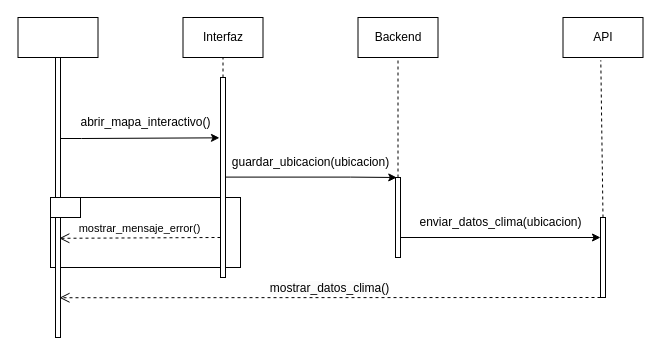
The diagram is 660 pixels wide and 355 high, and some of its shapes have lost their labels. The shapes that lost their labels are listed below. From the top down, each one's centre as x and y in pixels, then its label:
At [57,37]: "Cliente".
At [65,207]: "ALT".
